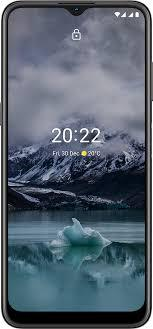Smartphone: (2, 1, 152, 325)
